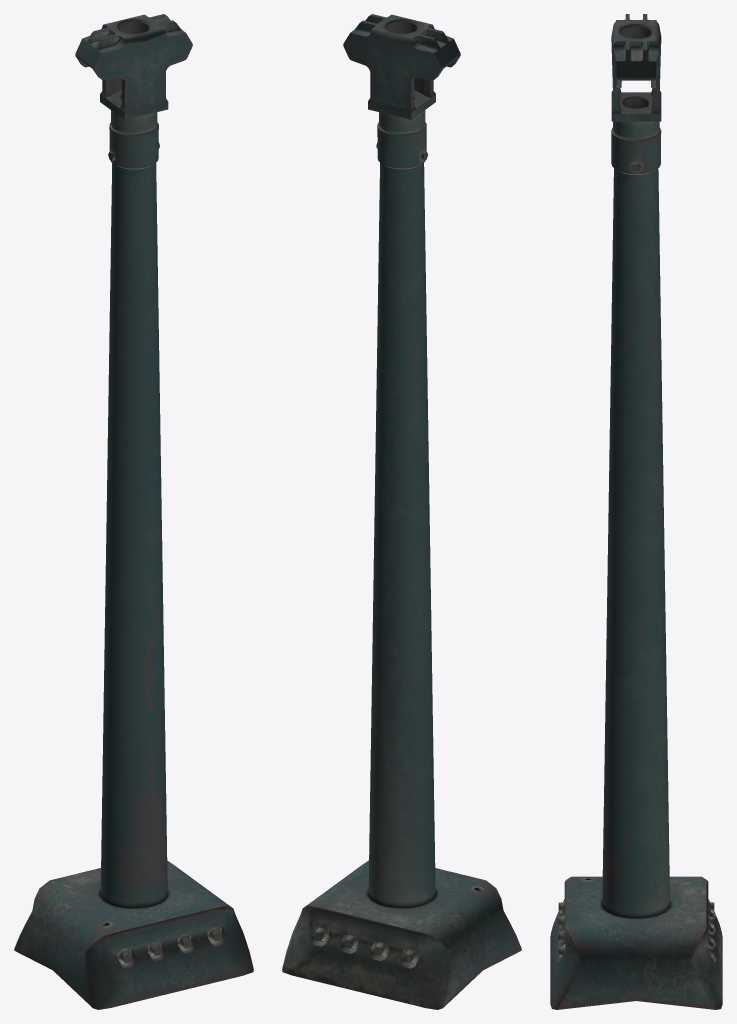
The model's file is Gun_02.glb.
3 renders of one model, left to right at view 1: azimuth 30°, elevation 25°; view 2: azimuth 150°, elevation 25°; view 3: azimuth 270°, elevation 25°, orthographic.
Visible parts, largest first — view 1: set_0_group_0; view 2: set_0_group_0; view 3: set_0_group_0.
Boxes of the visible parts, <box> form: set_0_group_0: <box>14,14,253,1009</box>; set_0_group_0: <box>282,14,521,1009</box>; set_0_group_0: <box>550,14,722,1009</box>.
Size of the model in its own units: 0.6379 by 3.5 by 0.5822.
1 material, 1 textured.
